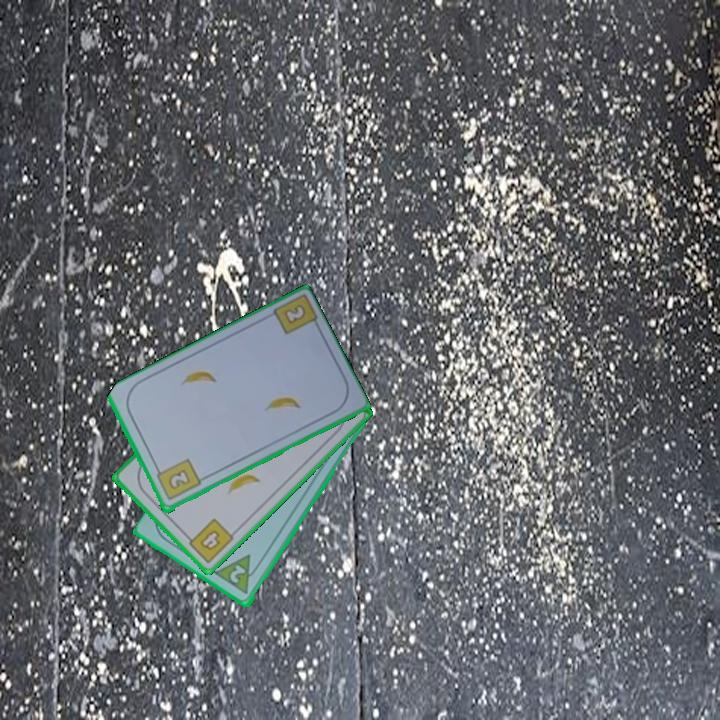2b: (152, 456, 203, 504), (282, 303, 307, 325)
2p: (212, 551, 264, 598)
4b: (181, 515, 237, 566)
